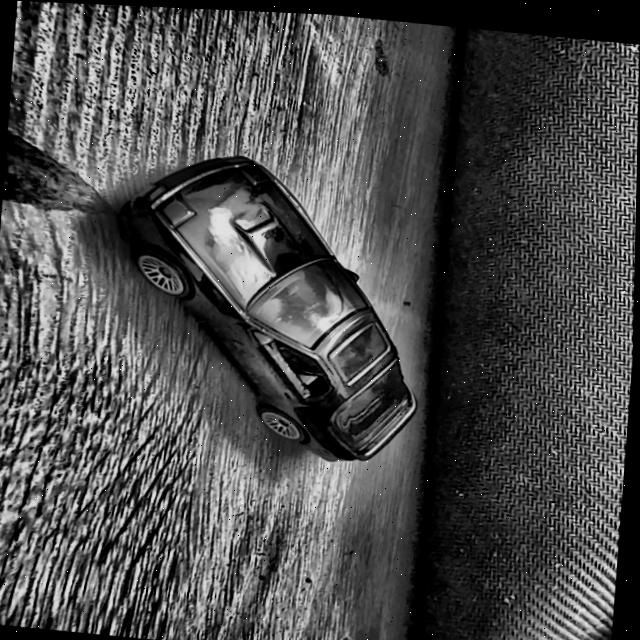car: (105, 143, 435, 467)
